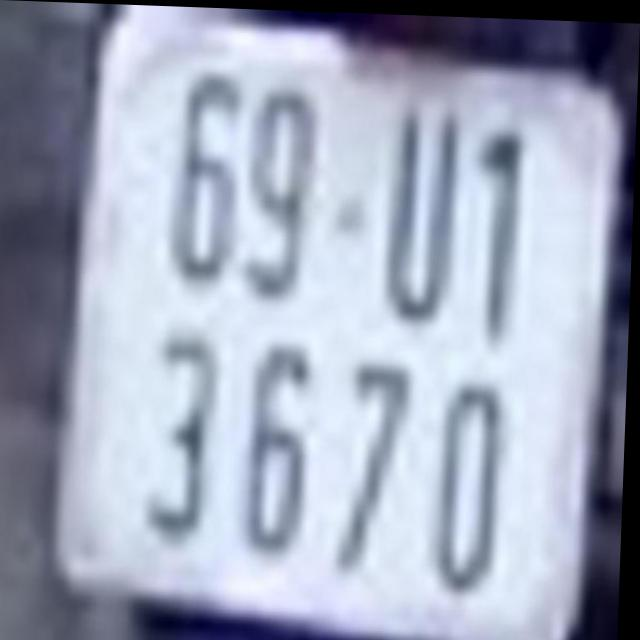0: (429, 362, 508, 588)
1: (474, 117, 534, 340)
3: (146, 326, 226, 551)
6: (167, 68, 249, 291), (247, 331, 320, 558)
7: (332, 351, 415, 575)
9: (248, 86, 318, 302)
U: (380, 110, 467, 313)
